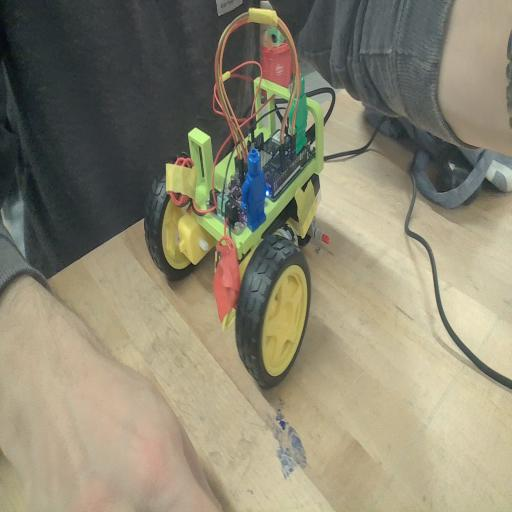blue LEGO minifig: (238, 145, 268, 230)
green LEGO minifig: (288, 71, 310, 156)
